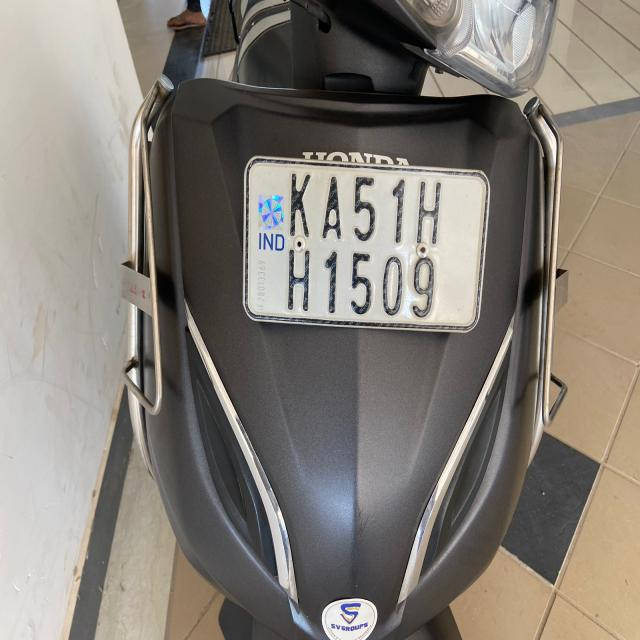0: (379, 252, 408, 324)
1: (386, 172, 411, 252), (320, 247, 345, 322)
5: (349, 170, 377, 250), (346, 245, 375, 322)
9: (410, 251, 441, 329)
A: (319, 170, 345, 246)
H: (278, 248, 317, 318), (414, 176, 442, 251)
K: (288, 170, 314, 247)
